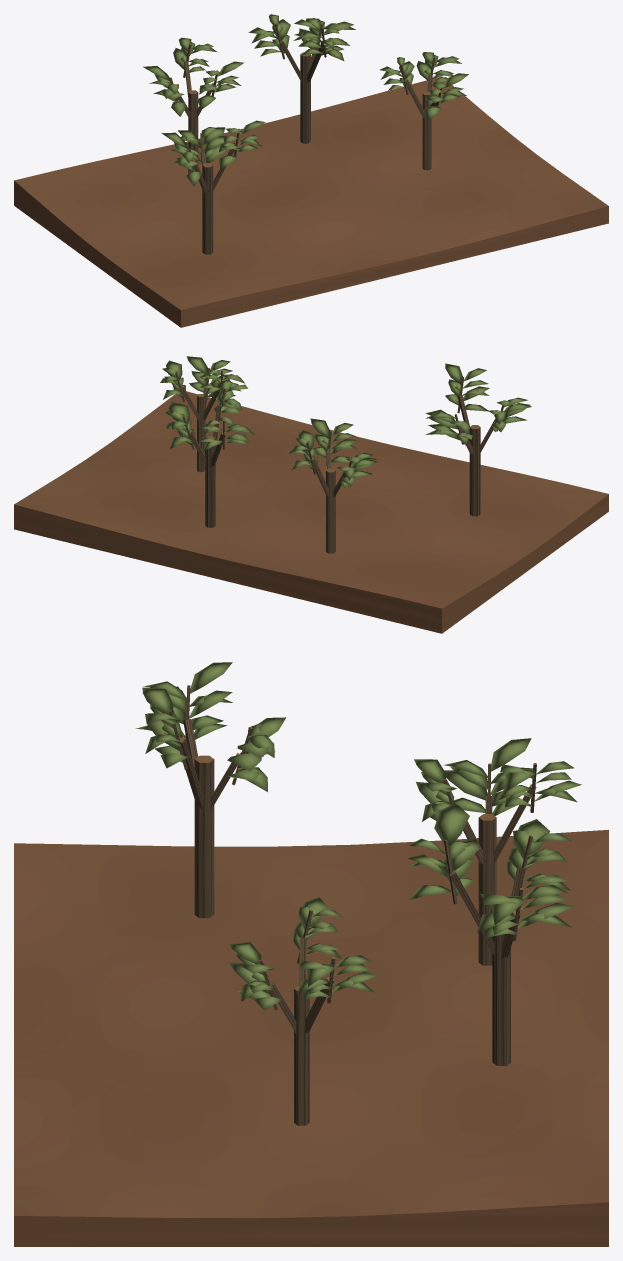
3 views of the same model, one above another, from view 1: azimuth 30°, elevation 25°; view 2: azimuth 150°, elevation 25°; view 3: azimuth 270°, elevation 25° (orthographic). The views are drawn at different scales.
Visible parts, largest first — view 1: flying-fish-cove; view 2: flying-fish-cove; view 3: flying-fish-cove.
Part boxes in pixels (x1,y1,x2,y2): flying-fish-cove: (14, 14, 608, 327); flying-fish-cove: (14, 356, 608, 633); flying-fish-cove: (14, 662, 608, 1246).
Bounding box in the file's own units: 7.4 × 2.57 × 5.
1 material, 1 textured.
